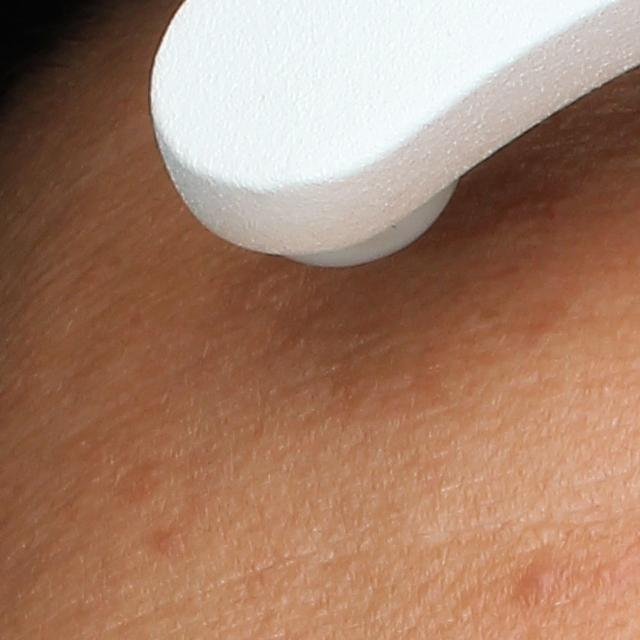comedo: (596, 563, 613, 582)
papule: (513, 551, 570, 604)
